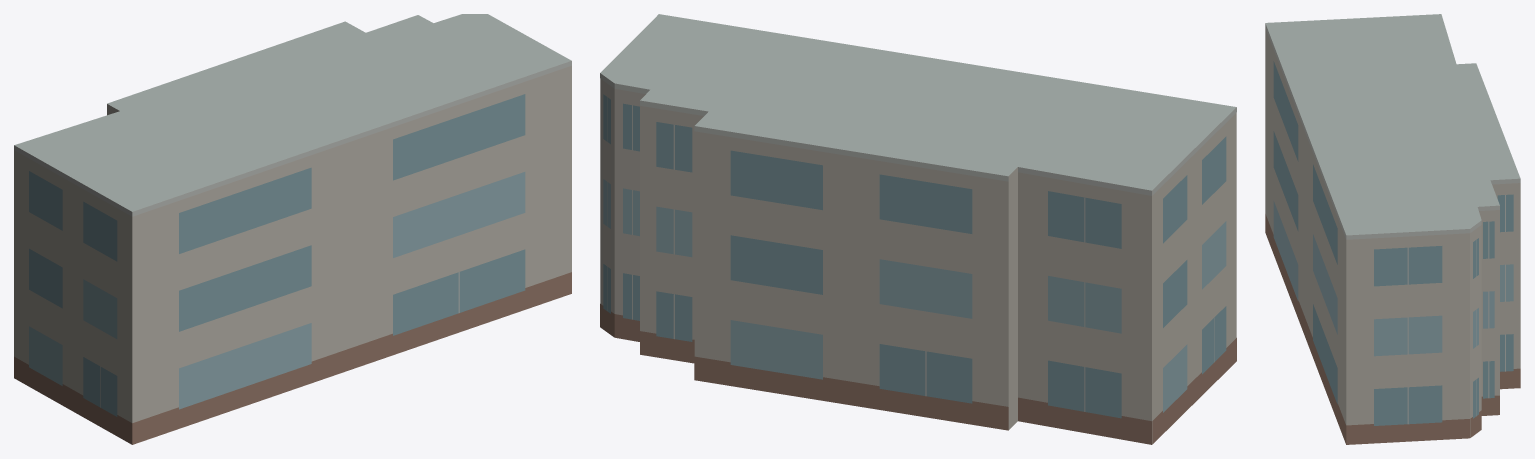
The model's file is survey-upis-32499029.glb.
3 views of the same model, side by side, from view 1: azimuth 30°, elevation 25°; view 2: azimuth 150°, elevation 25°; view 3: azimuth 270°, elevation 25° (orthographic). The views are drawn at different scales.
Parts seen in each view (by area): view 1: survey-upis-32499029.tmp; view 2: survey-upis-32499029.tmp; view 3: survey-upis-32499029.tmp.
Part boxes in pixels (bbox=[...]): survey-upis-32499029.tmp: bbox=[14, 14, 571, 444]; survey-upis-32499029.tmp: bbox=[600, 14, 1236, 444]; survey-upis-32499029.tmp: bbox=[1265, 14, 1520, 444].
Size of the model in its own units: 26.54 by 11.7 by 12.94.
